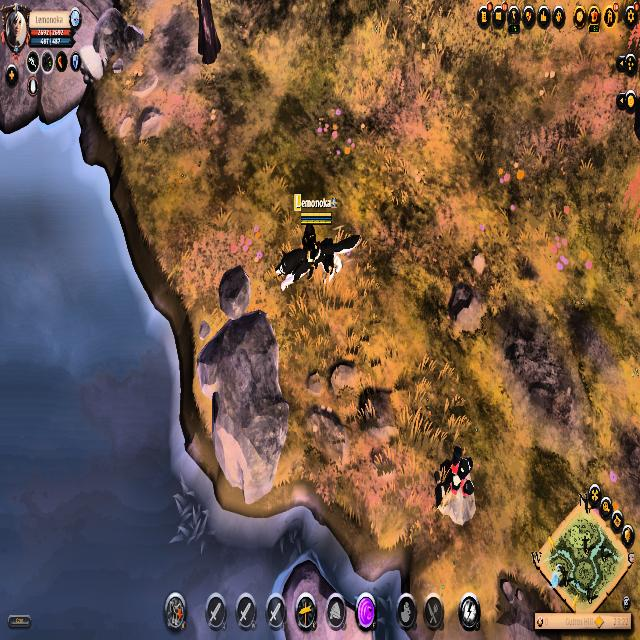ore tier 5: (434, 440, 478, 528)
